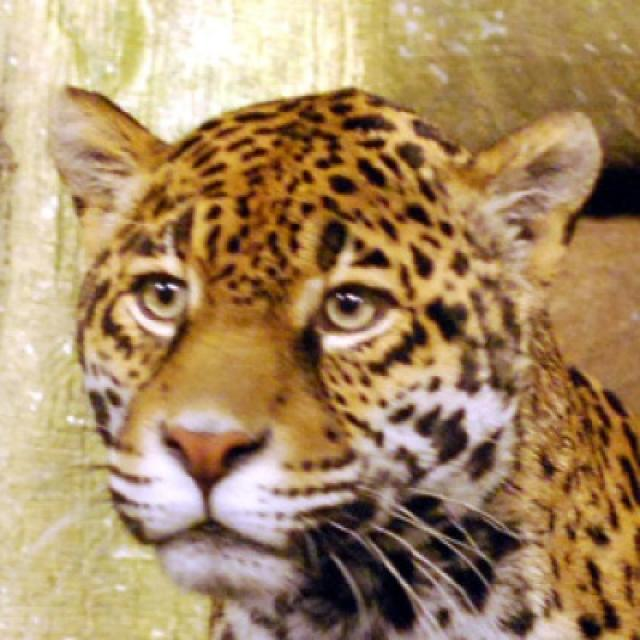Jaguar: (48, 86, 638, 638)
